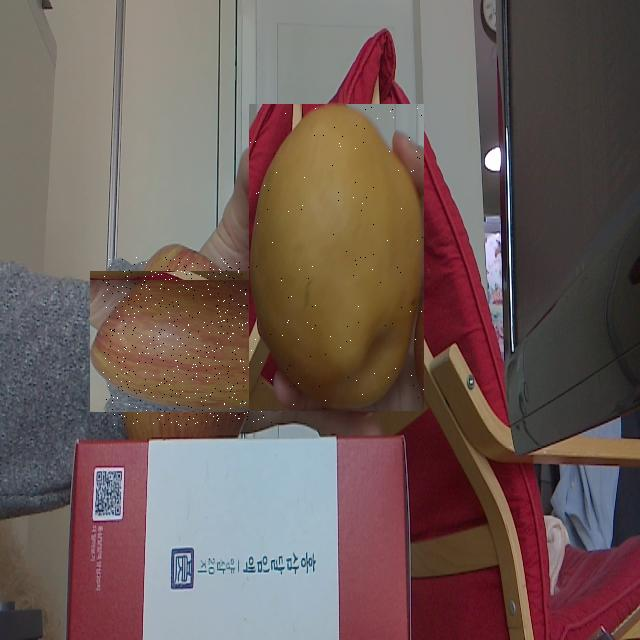apple: (103, 257, 272, 426)
pear: (249, 104, 424, 411)
